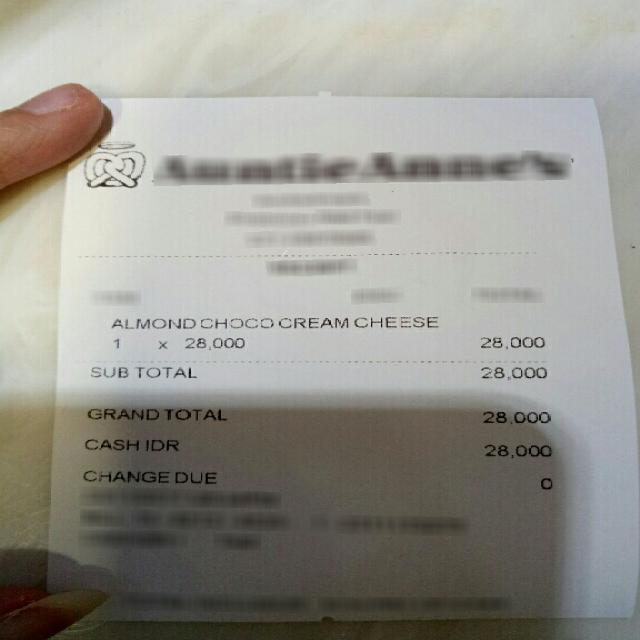kertas: (51, 96, 636, 620)
